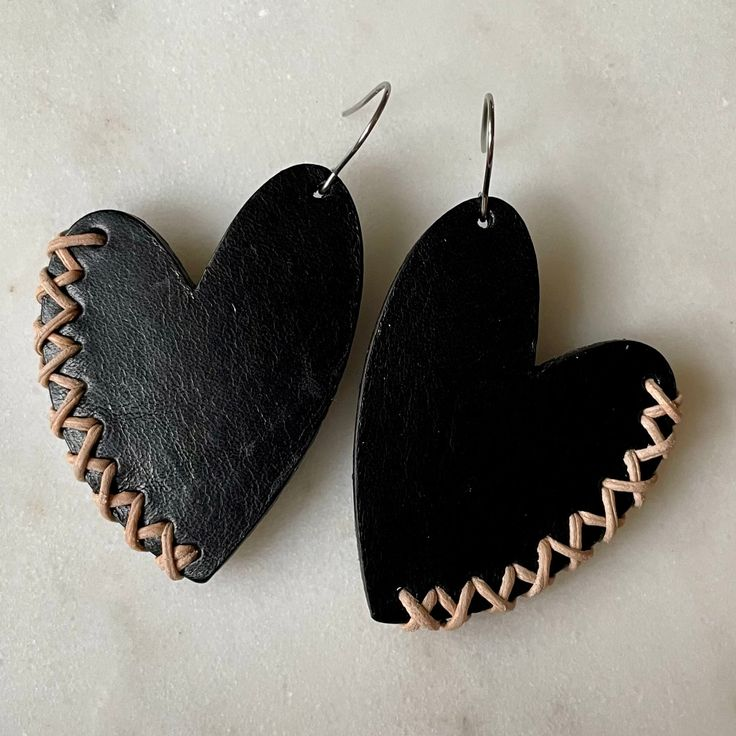cuero: (36, 165, 680, 625)
